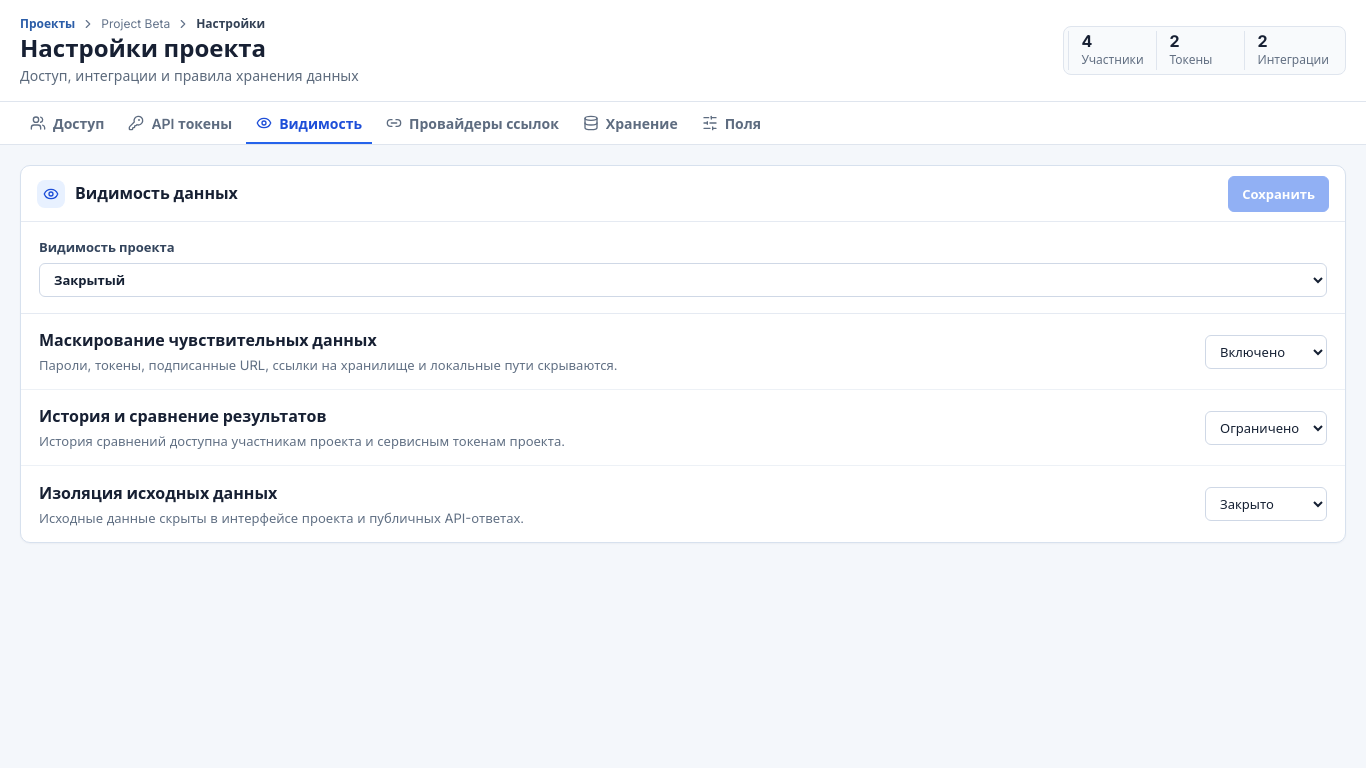
it: enables saving visibility only after the user changes a policy
This screenshot has width=1366, height=768.
expect the button "Сохранить" is disabled: met, box [1228, 176, 1329, 212]
Select "Внутренний" in the dropdown labelled "Видимость проекта" at (683, 280), box [39, 263, 1327, 297]
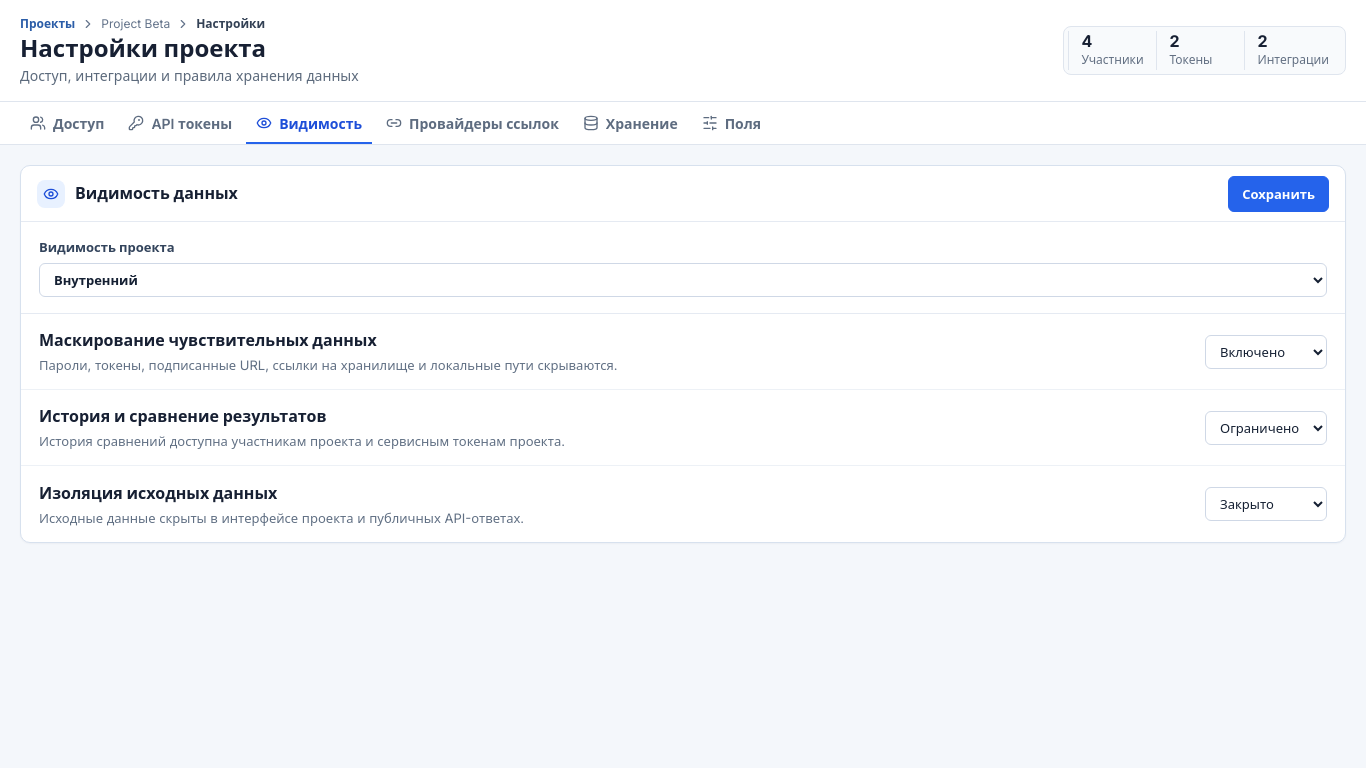
expect the button "Сохранить" is enabled: met, box [1228, 176, 1329, 212]
